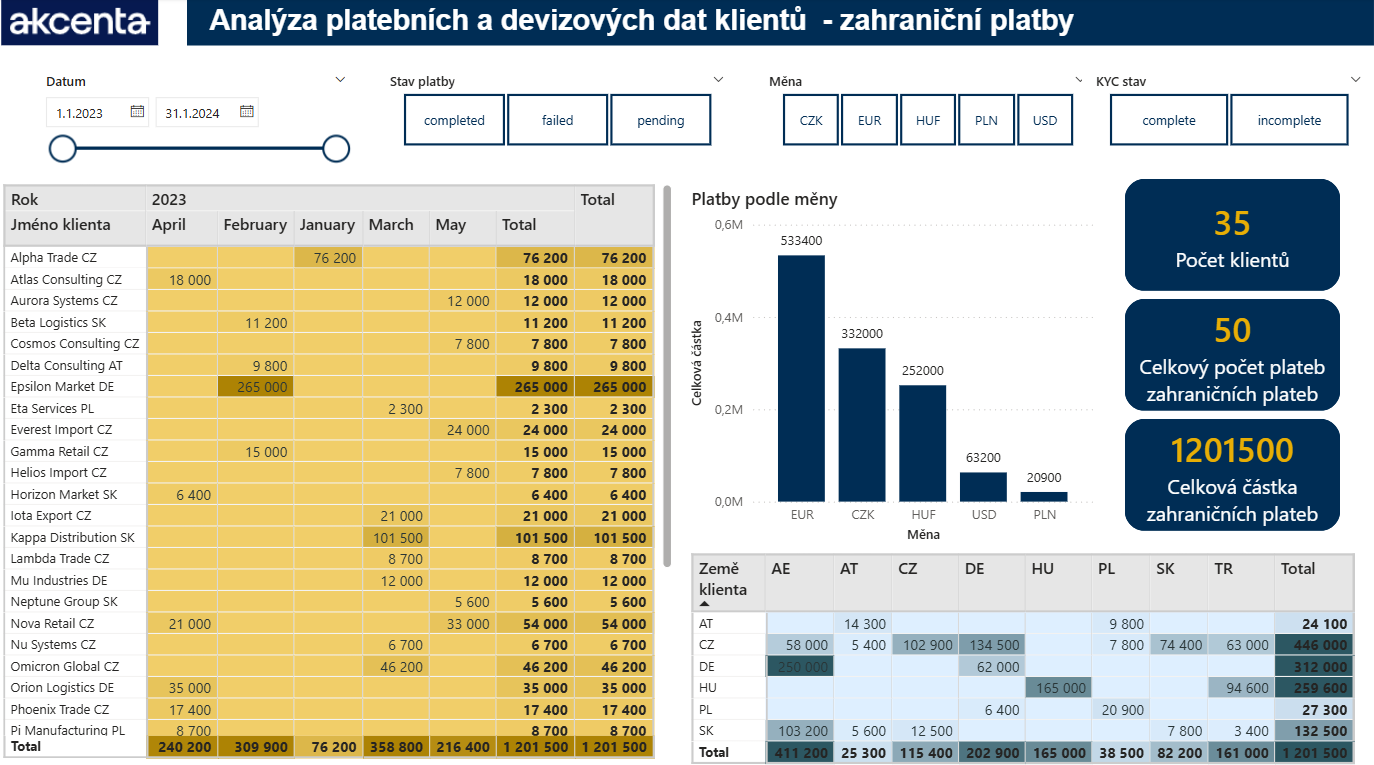

The dashboard page shown, as its layout file describes it:
{"tool":"powerbi","page":{"name":"Zahraniční platby","canvas":[1280,720],"ordinal":0},"visuals":[{"type":"clusteredColumnChart","title":"Platby podle měny","fields":{"Category":["fact_payments.currency"],"Y":["_Measures.Celkova_Castka"]},"box":[640,176,384,336],"z":0},{"type":"slicer","fields":{"Values":["dim_calendar.Date"]},"box":[32,64,304,112],"z":1000},{"type":"cardVisual","fields":{"Data":["_Measures.Celkový počet plateb"]},"box":[1048,280,200,104],"z":2000},{"type":"pivotTable","fields":{"Columns":["dim_calendar.Rok","dim_calendar.Název měsíce"],"Rows":["dim_clients.client_name"],"Values":["_Measures.Celkova_Castka1"]},"box":[0,168,632,544],"z":3000},{"type":"cardVisual","fields":{"Data":["_Measures.Celková částka"]},"box":[1048,392,200,104],"z":4000},{"type":"slicer","fields":{"Values":["fact_payments.payment_status"]},"box":[352,64,336,80],"z":5000},{"type":"image","box":[0,0,152,44],"z":6000},{"type":"textbox","box":[176,0,1104,44],"z":7000},{"type":"cardVisual","fields":{"Data":["_Measures.Pocet_Klientu"]},"box":[1048,168,200,104],"z":8000},{"type":"slicer","fields":{"Values":["fact_payments.currency"]},"box":[704,64,320,80],"z":9000},{"type":"pivotTable","fields":{"Rows":["fact_payments.client_country"],"Columns":["fact_payments.counterparty_country"],"Values":["_Measures.Celkova_Castka1"]},"box":[640,512,640,208],"z":10000},{"type":"slicer","fields":{"Values":["dim_clients.kyc_status"]},"box":[1024,64,256,80],"z":11000}]}

Visuals, with their boxes in screenshot pixels (x1, y1, x2, y2), scaled from the page's 1280x720 canvas onto the 1374x765 screenshot:
"Platby podle měny" clusteredColumnChart: 687:187:1099:544
slicer - dim_calendar.Date: 34:68:361:187
cardVisual - _Measures.Celkový počet plateb: 1125:298:1340:408
pivotTable - dim_calendar.Rok x dim_calendar.Název měsíce: 0:178:678:756
cardVisual - _Measures.Celková částka: 1125:416:1340:527
slicer - fact_payments.payment_status: 378:68:739:153
image: 0:0:163:47
textbox: 189:0:1373:47
cardVisual - _Measures.Pocet_Klientu: 1125:178:1340:289
slicer - fact_payments.currency: 756:68:1099:153
pivotTable - fact_payments.client_country x fact_payments.counterparty_country: 687:544:1373:764
slicer - dim_clients.kyc_status: 1099:68:1373:153
